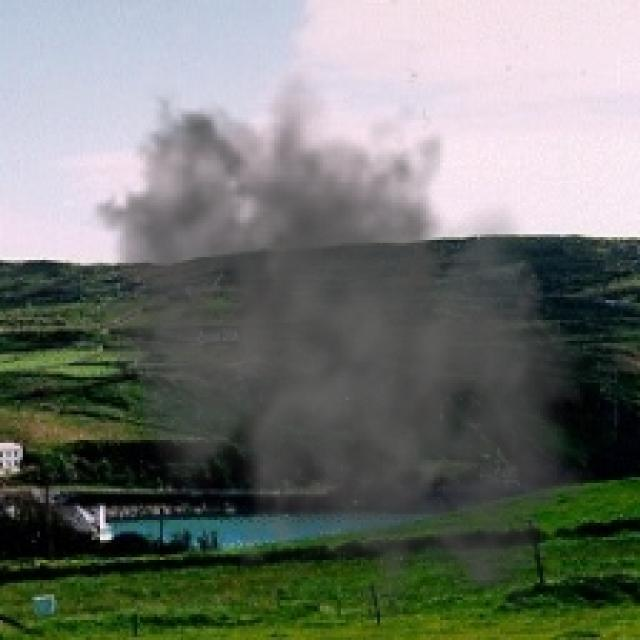Smoke: (57, 66, 626, 634)
